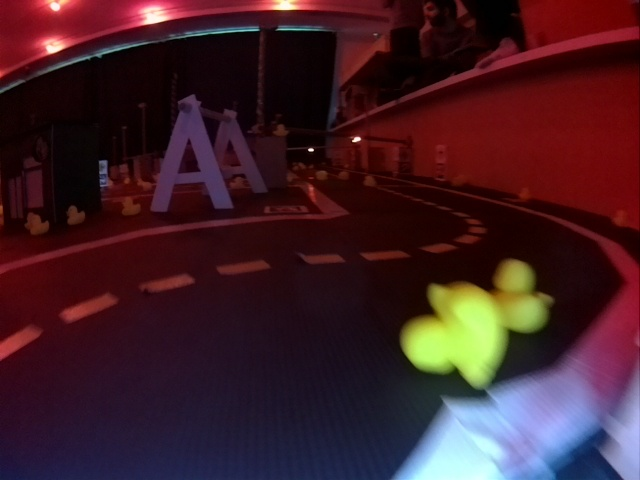Duckie: (402, 284, 501, 388), (491, 258, 548, 334), (29, 216, 49, 234), (66, 207, 84, 224), (123, 198, 140, 216)
QR code: (265, 206, 308, 214)
